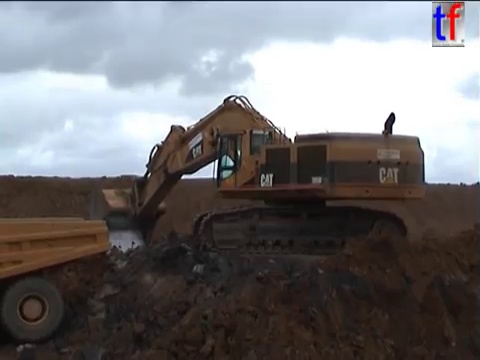excavator: (86, 93, 429, 269)
truck: (1, 214, 113, 342)
